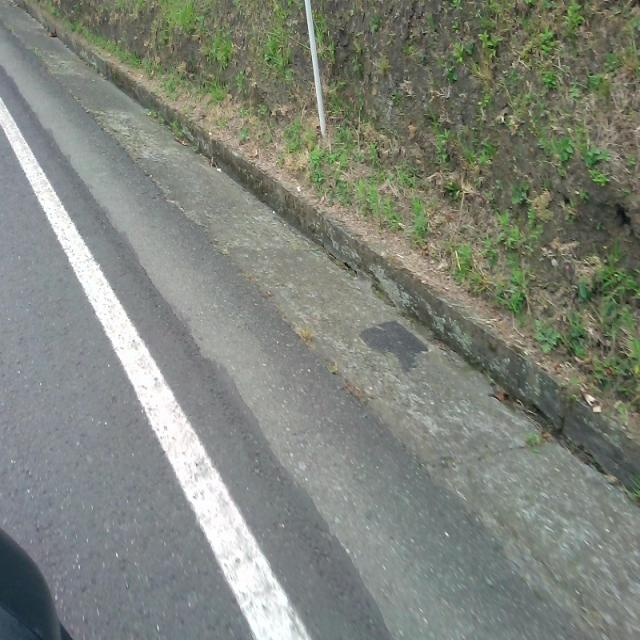DITCH: (1, 1, 638, 638), (8, 18, 638, 638)
